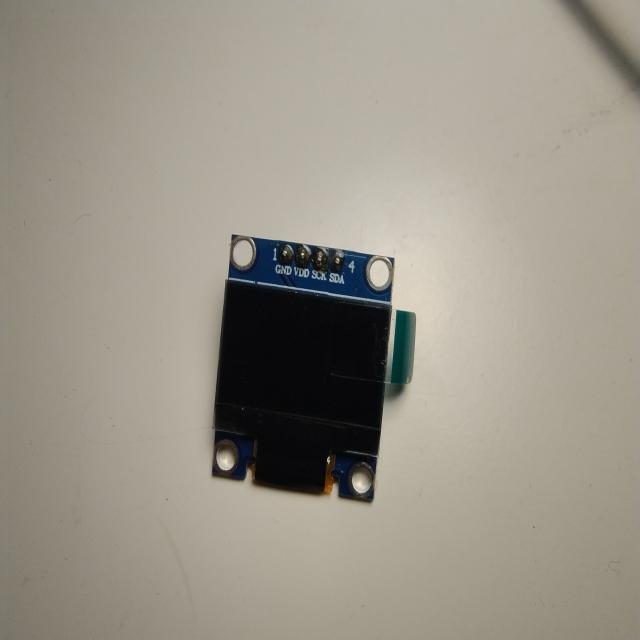oled: (212, 225, 418, 518)
